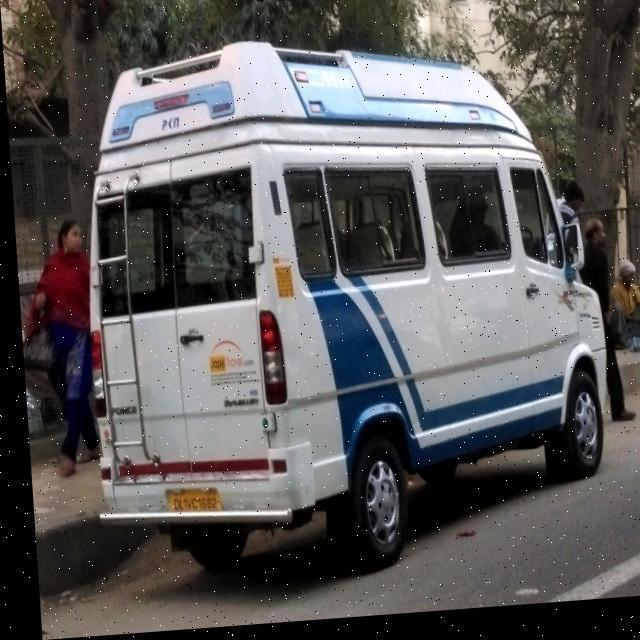Ambulance: (11, 7, 640, 626), (23, 388, 640, 638)
